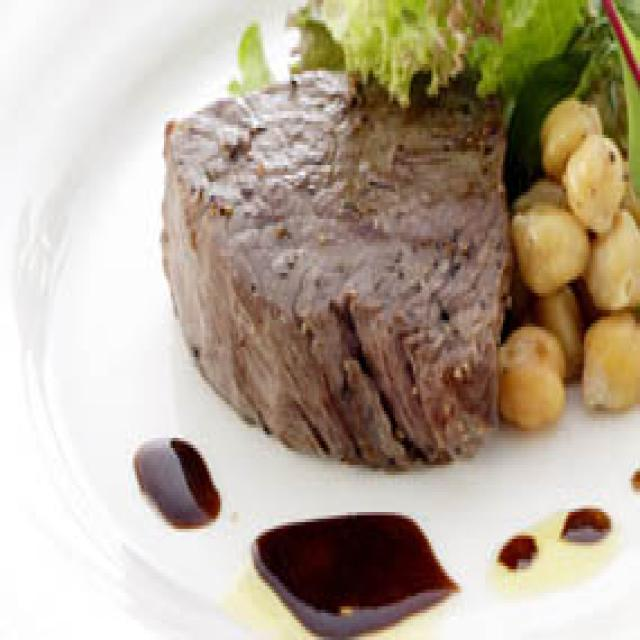牛肉菜式: (148, 57, 519, 475)
